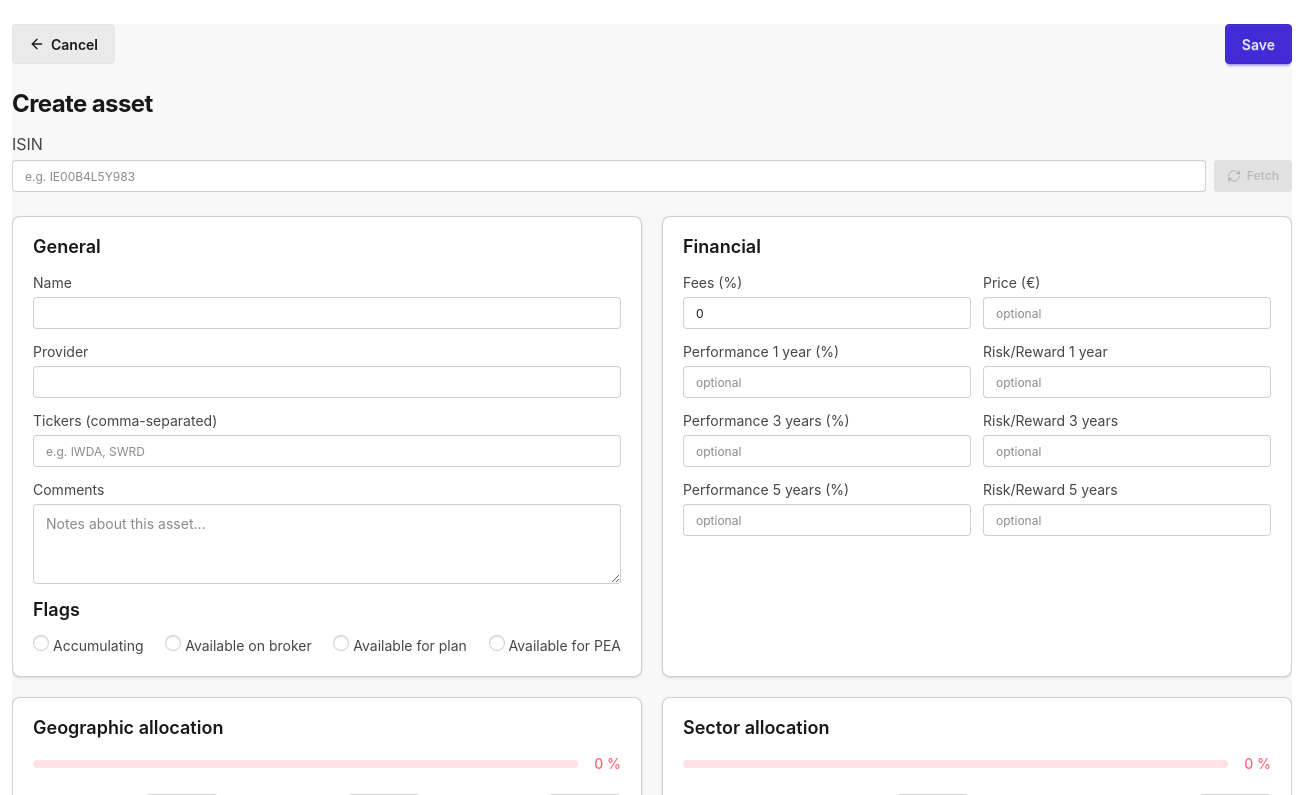
Test: AssetCreatePage › shows isin error when saving with a duplicate ISIN
Type "IE00B4L5Y983" into the field with test id "isin".
click(609, 176); type("IE00B4L5Y983")  # box left=12, top=160, right=1206, bottom=192
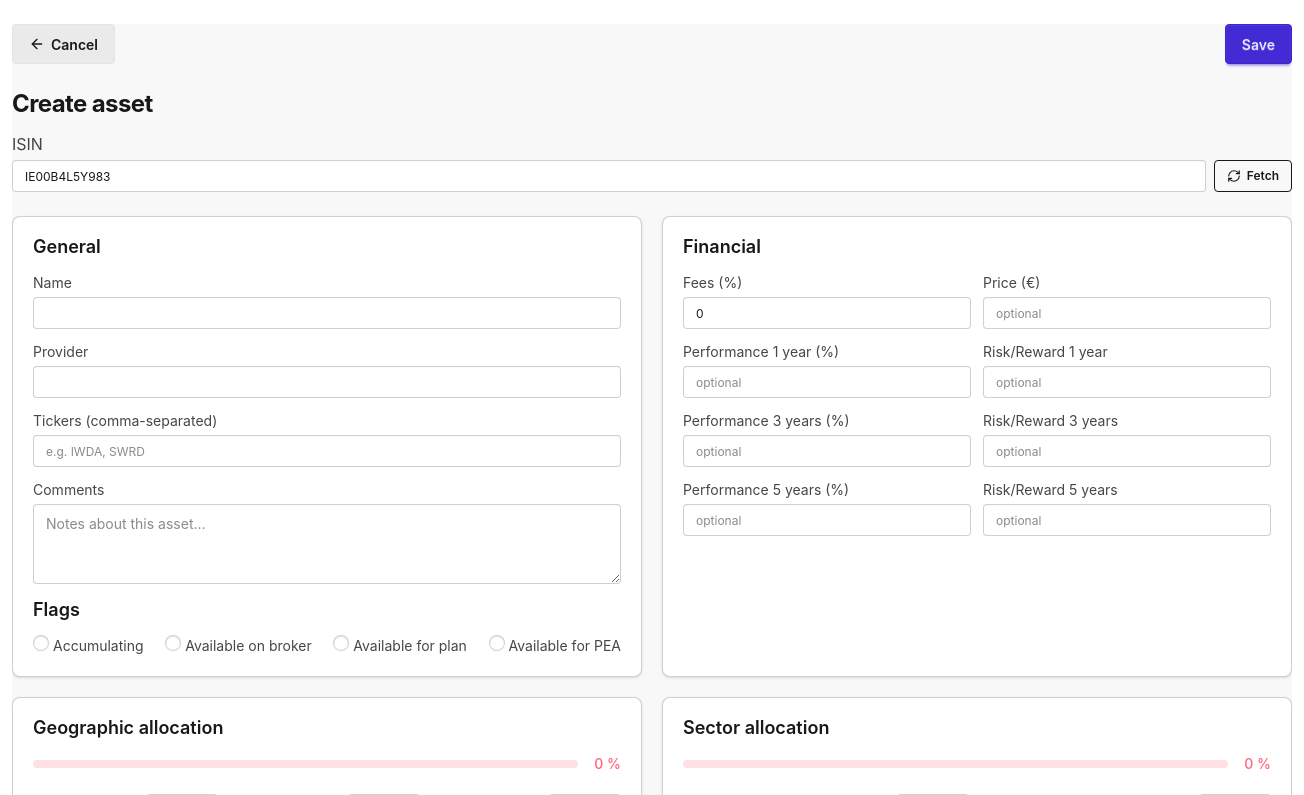
Type "Duplicate ETF" into the field with test id "name".
click(327, 313); type("Duplicate ETF")  # box left=33, top=297, right=621, bottom=329
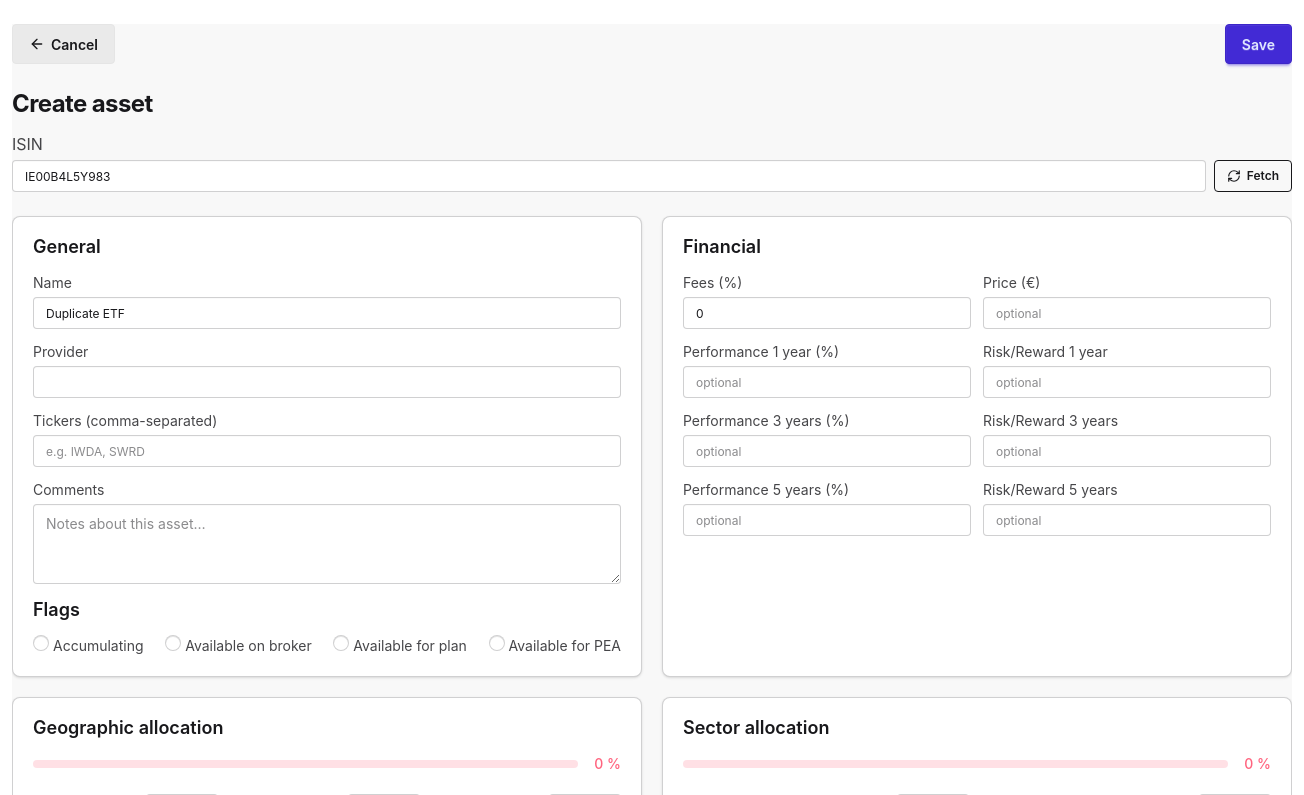
Click the button with test id "save-button".
click(1258, 44)  # box left=1225, top=24, right=1292, bottom=64
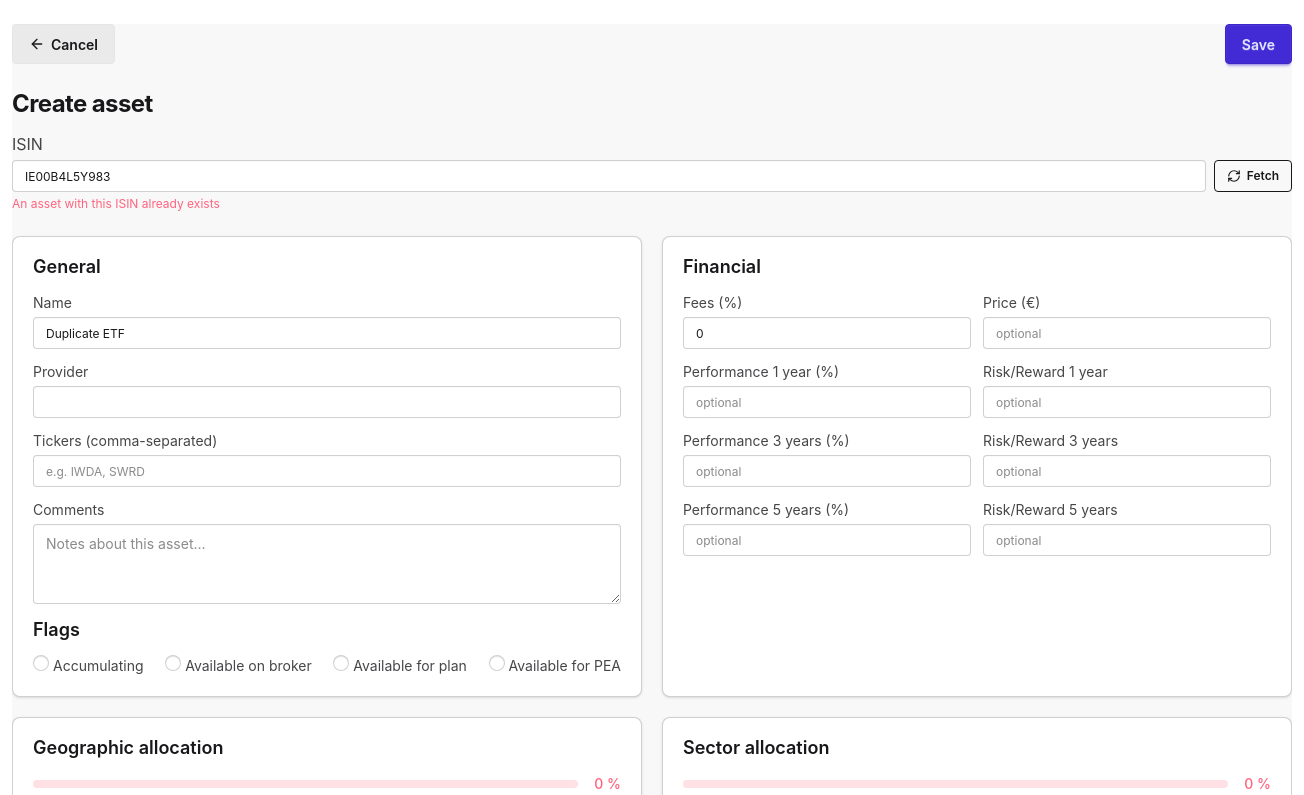
Check: the text with test id "isin-error" reads "An asset with this ISIN already exists", box left=12, top=196, right=220, bottom=211
